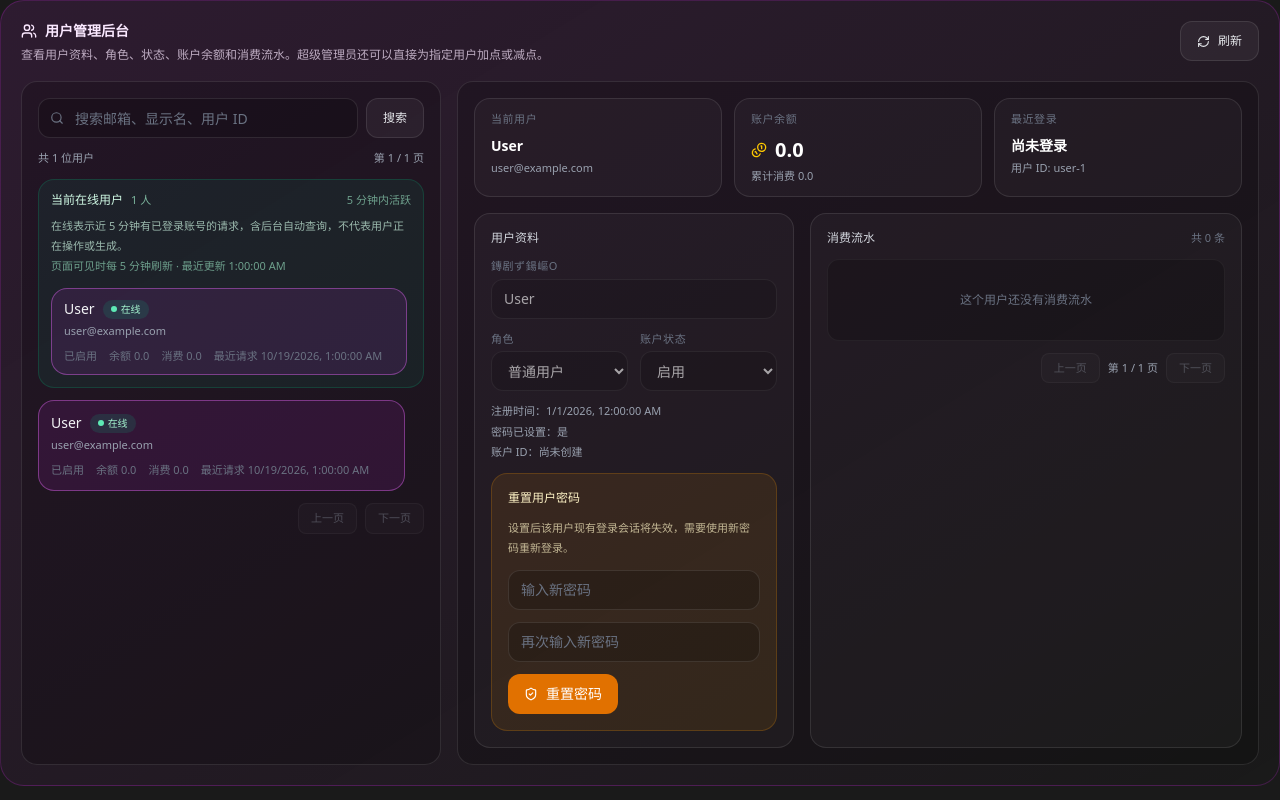
it: UserAdminPanel online status refresh › refreshes online users without resetting an in-progress password edit
Expected: the text "在线" is shown 2 times, [103, 300, 149, 318]; [90, 414, 136, 432]
Type "draft-password" into the password field with placeholder "输入新密码" at (634, 590), box [508, 570, 760, 610]
Wait 300000 ms
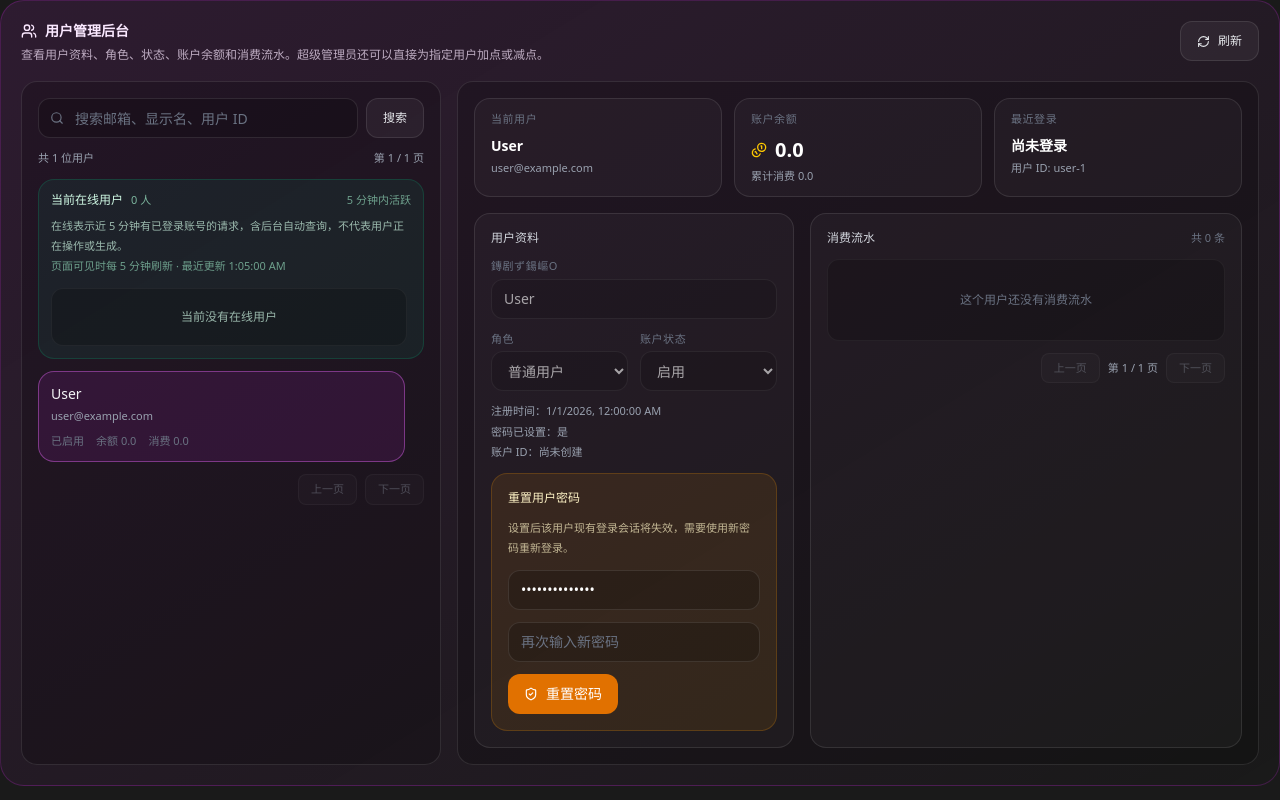
Expected: the text "在线表示近 5 分钟有已登录账号的请求，含后台自动查询，不代表用户正在操作或生成。" is shown, [51, 216, 411, 256]
Result: the text "当前没有在线用户" is shown at [51, 288, 407, 346]
